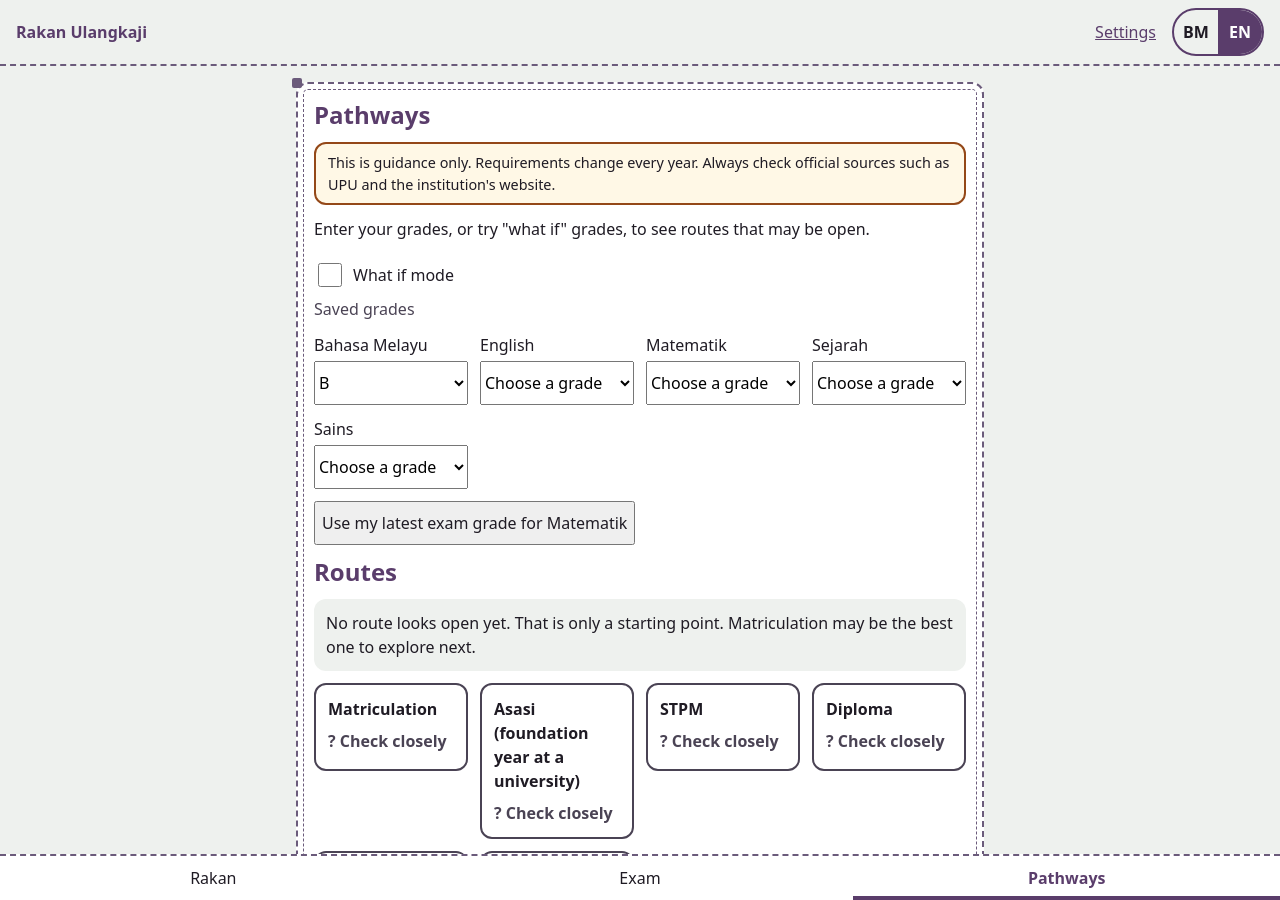
Test: Board screen › imports Matematik from the latest exam, or says kindly that there is none
Later steps or results of the test are not shown.
Check: the heading "Pathways" is shown, box [314,98,430,131]
Click the button "Use my latest exam grade for Matematik". click: [475, 523]
box: [314,501,635,545]
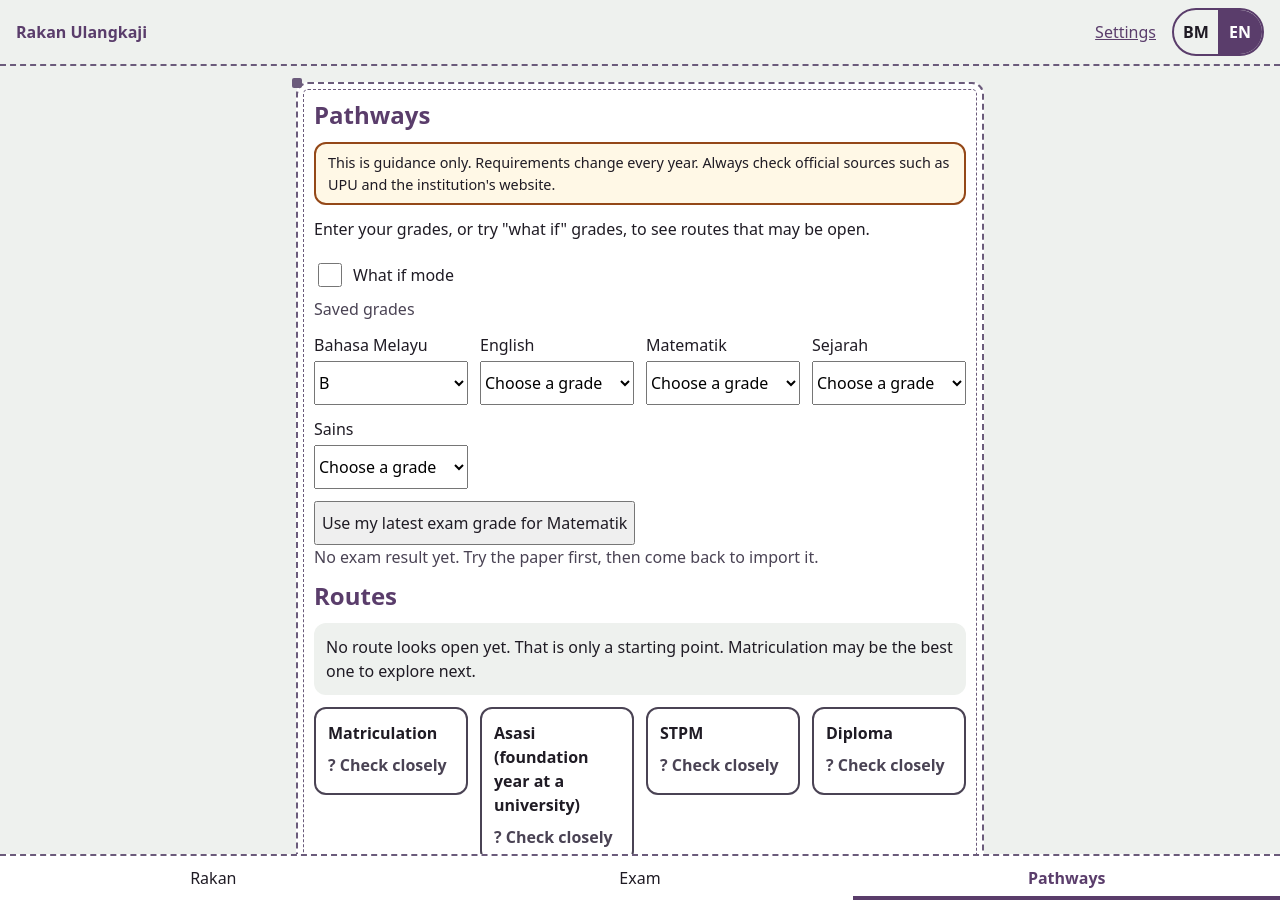
Check: the text "No exam result yet. Try the paper first, then come back to import it." is shown, box [314,546,818,568]
